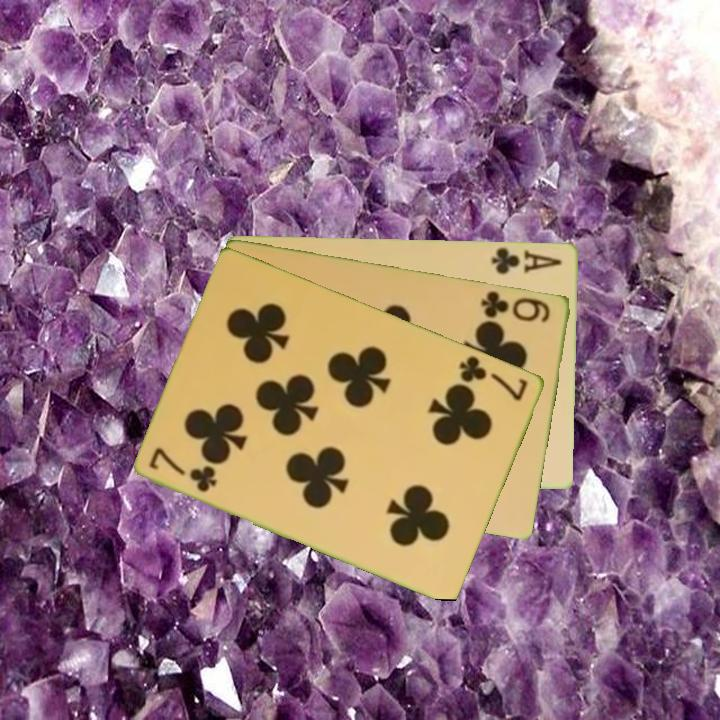6c: (477, 287, 554, 325)
7c: (145, 443, 221, 495), (456, 352, 531, 403)
Ac: (489, 243, 565, 277)
